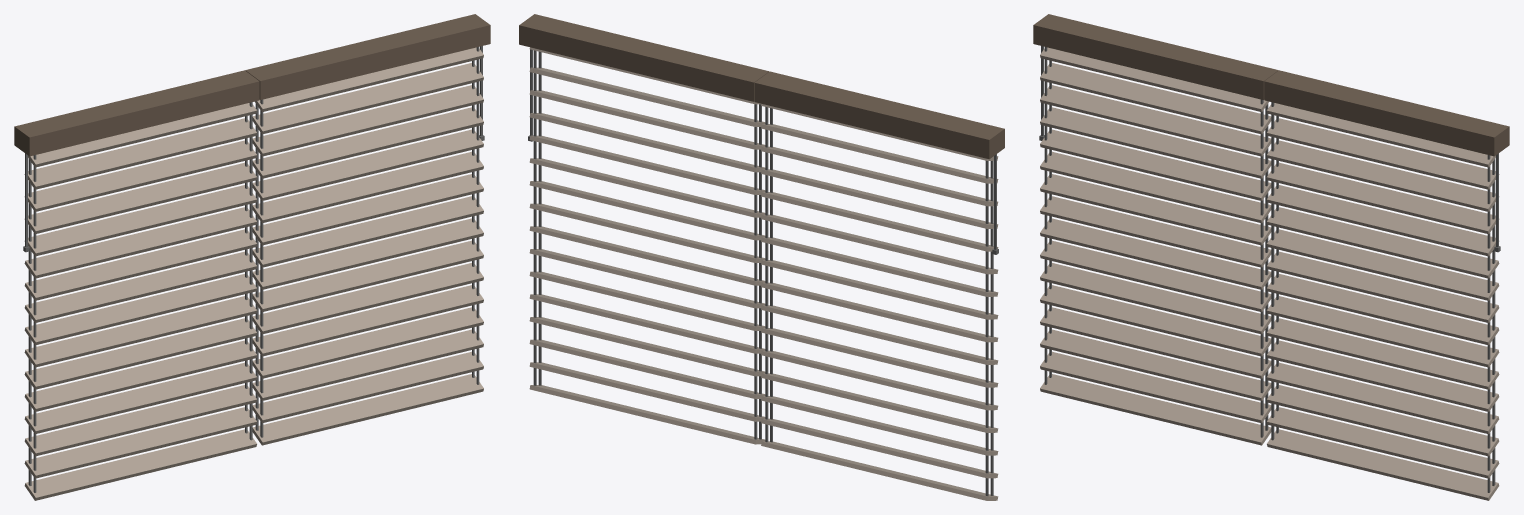
File: Curtains12_C2.fbx
3 renders of one model, left to right at view 1: azimuth 30°, elevation 25°; view 2: azimuth 150°, elevation 25°; view 3: azimuth 330°, elevation 25°, orthographic. The views are drawn at different scales.
Visible parts, largest first — view 1: Curtains12_C2; view 2: Curtains12_C2; view 3: Curtains12_C2.
Part boxes in pixels (<box>): Curtains12_C2: <box>14,14,490,500</box>; Curtains12_C2: <box>519,14,1004,500</box>; Curtains12_C2: <box>1033,14,1509,500</box>.
Size of the model in its own units: 223 by 169 by 12.67.
